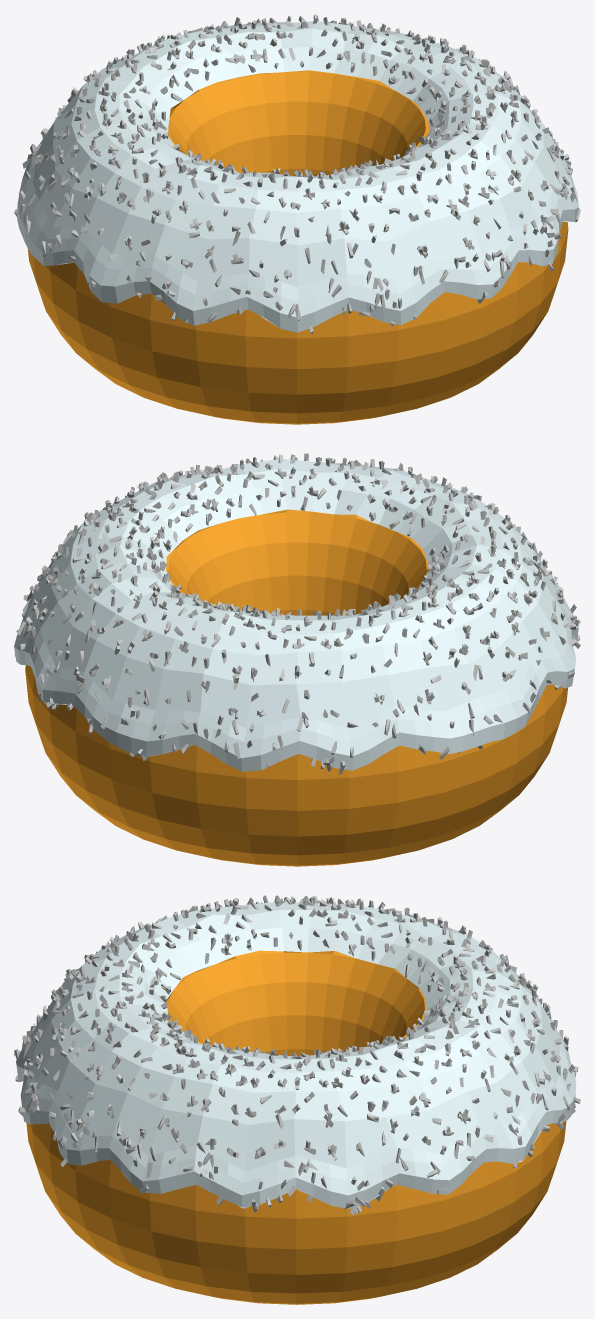
Rendered from donutCreamWhite.glb.
3 renders of one model, top to bottom at view 1: azimuth 30°, elevation 25°; view 2: azimuth 150°, elevation 25°; view 3: azimuth 270°, elevation 25°, orthographic.
Visible parts, largest first — view 1: donut.001; view 2: donut.001; view 3: donut.001.
Part boxes in pixels (x1=…): donut.001: x1=14, y1=14, x2=580, y2=424; donut.001: x1=14, y1=453, x2=580, y2=866; donut.001: x1=14, y1=895, x2=580, y2=1304.
Bounding box in the file's own units: 0.991 × 0.4806 × 0.9999.
